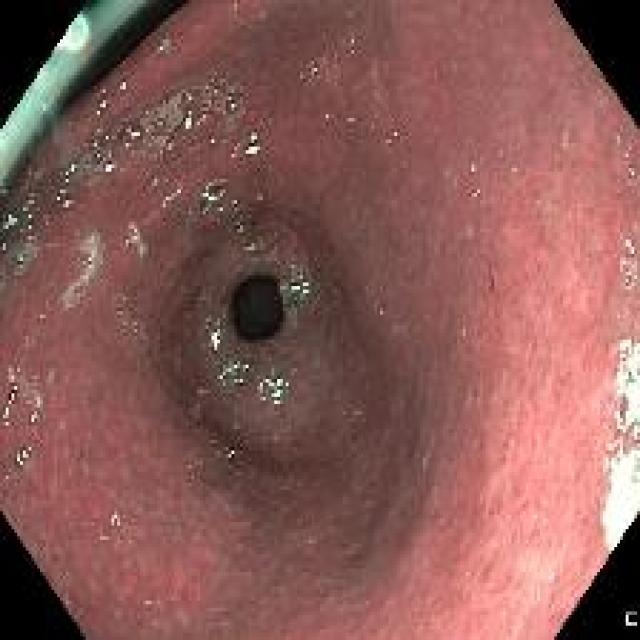bubbles: (61, 228, 106, 313), (163, 112, 230, 169), (195, 180, 230, 221), (110, 120, 147, 158), (11, 436, 45, 474), (606, 394, 626, 448), (121, 226, 151, 261), (214, 435, 239, 468), (176, 87, 208, 112), (623, 419, 639, 460), (621, 147, 638, 184), (23, 210, 37, 243), (207, 83, 223, 111), (623, 236, 636, 263), (153, 116, 169, 137), (223, 93, 238, 115), (14, 252, 28, 274), (138, 100, 153, 120), (64, 286, 75, 311), (158, 91, 175, 107), (90, 146, 105, 164), (621, 270, 634, 290), (158, 191, 171, 211), (113, 303, 128, 320), (233, 216, 245, 235), (230, 195, 243, 211), (79, 252, 93, 265), (12, 364, 22, 381), (35, 312, 46, 327), (131, 321, 140, 337), (95, 255, 104, 270), (141, 330, 149, 346), (119, 321, 130, 332)
color misalignment: (55, 2, 146, 61), (1, 87, 62, 164), (18, 57, 87, 85), (0, 164, 18, 195)
contrast: (232, 275, 279, 334)
saturation: (606, 335, 639, 552)
specularity: (217, 357, 249, 388), (288, 267, 314, 299), (2, 381, 18, 429), (12, 443, 39, 471), (0, 210, 21, 233), (205, 327, 225, 350), (98, 159, 119, 179), (124, 124, 138, 150), (272, 374, 282, 409), (613, 407, 624, 432), (241, 143, 262, 156), (199, 186, 214, 204), (226, 96, 240, 114), (182, 115, 196, 131), (51, 187, 67, 201), (26, 410, 40, 426), (114, 77, 128, 93), (262, 372, 275, 389), (94, 101, 107, 118), (245, 129, 260, 143), (624, 237, 635, 256), (630, 424, 639, 447), (153, 40, 165, 57), (64, 159, 79, 172), (207, 134, 220, 147), (280, 376, 291, 391), (89, 135, 99, 150), (255, 379, 266, 392), (256, 394, 268, 405), (61, 198, 71, 209), (217, 204, 225, 215), (225, 452, 234, 461), (228, 446, 236, 456), (627, 166, 634, 177), (624, 275, 631, 286), (123, 238, 130, 247), (145, 600, 151, 609), (239, 225, 244, 233), (19, 254, 25, 259)
